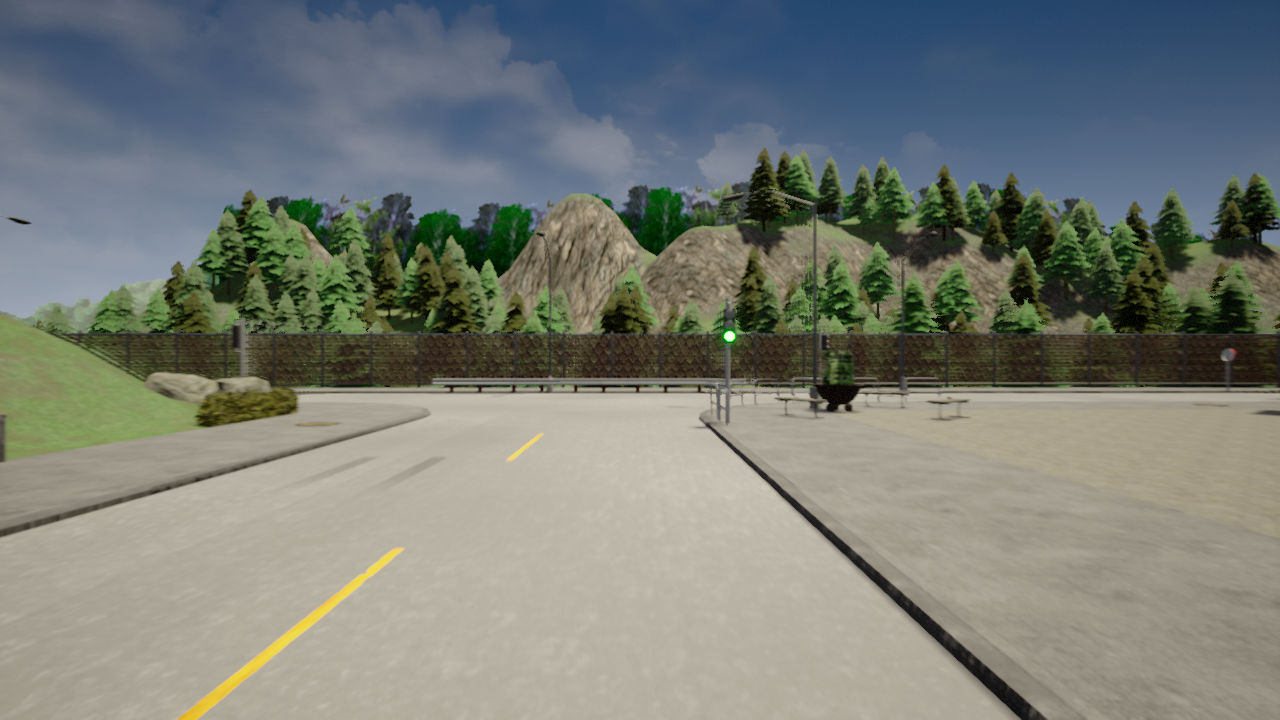green: (723, 308, 735, 343)
